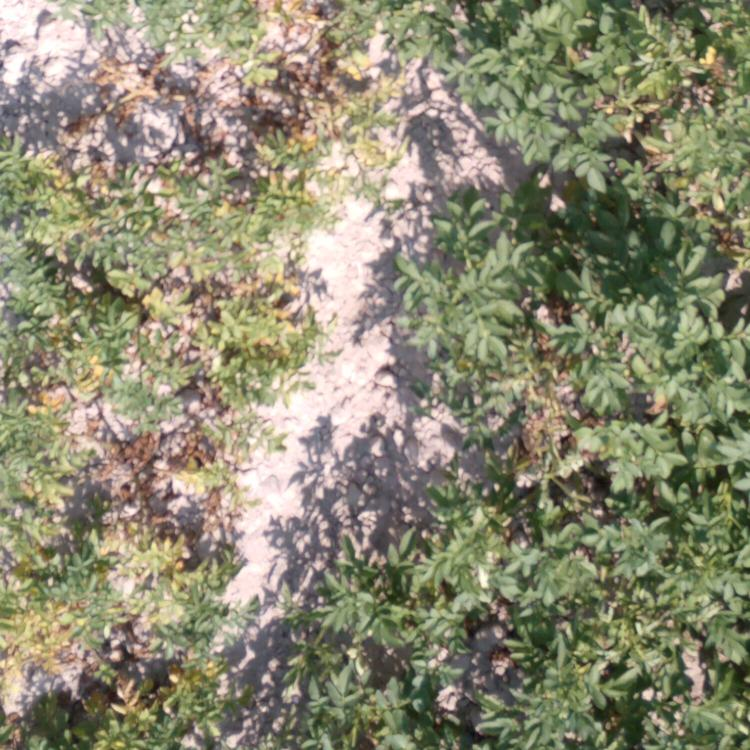healthy: (536, 513, 749, 750), (448, 1, 750, 166), (387, 170, 581, 390), (583, 170, 750, 392), (462, 391, 746, 511), (406, 513, 541, 750), (281, 548, 406, 749)
stressed: (1, 529, 251, 750), (1, 276, 316, 408), (1, 148, 313, 271), (1, 410, 266, 526), (247, 1, 426, 144), (61, 1, 228, 150)
